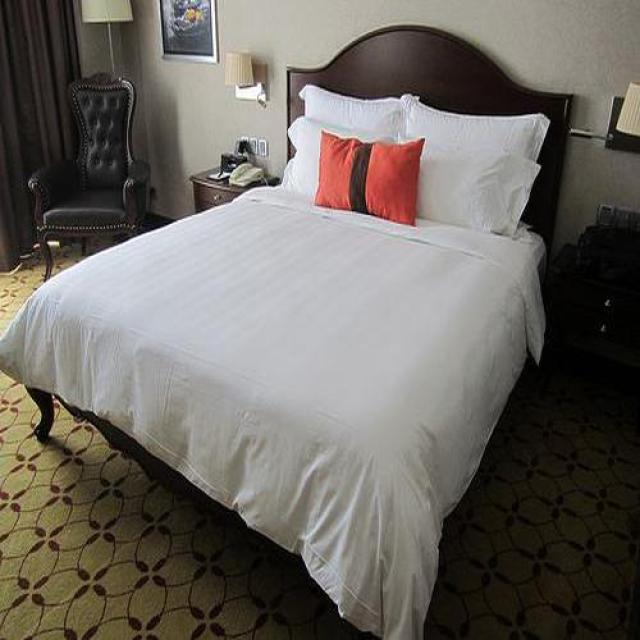bed: (0, 26, 568, 640)
